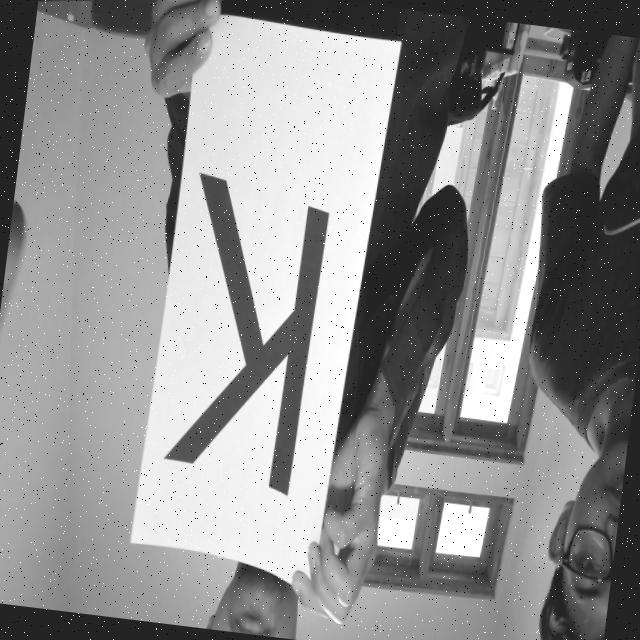k: (148, 150, 354, 522)
